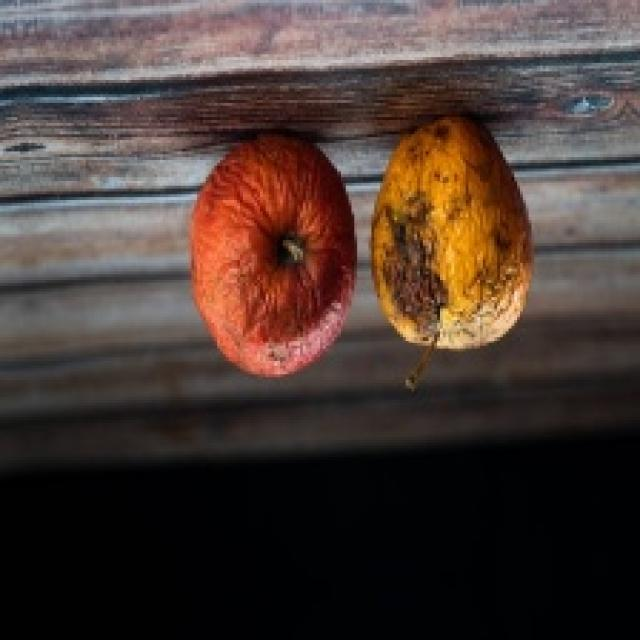rotten_apple: (196, 138, 353, 376), (377, 117, 533, 352)
